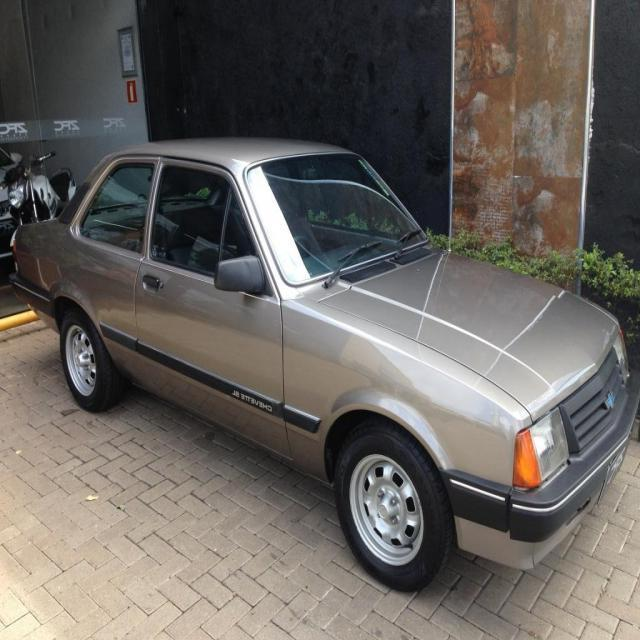car: (6, 146, 636, 594)
